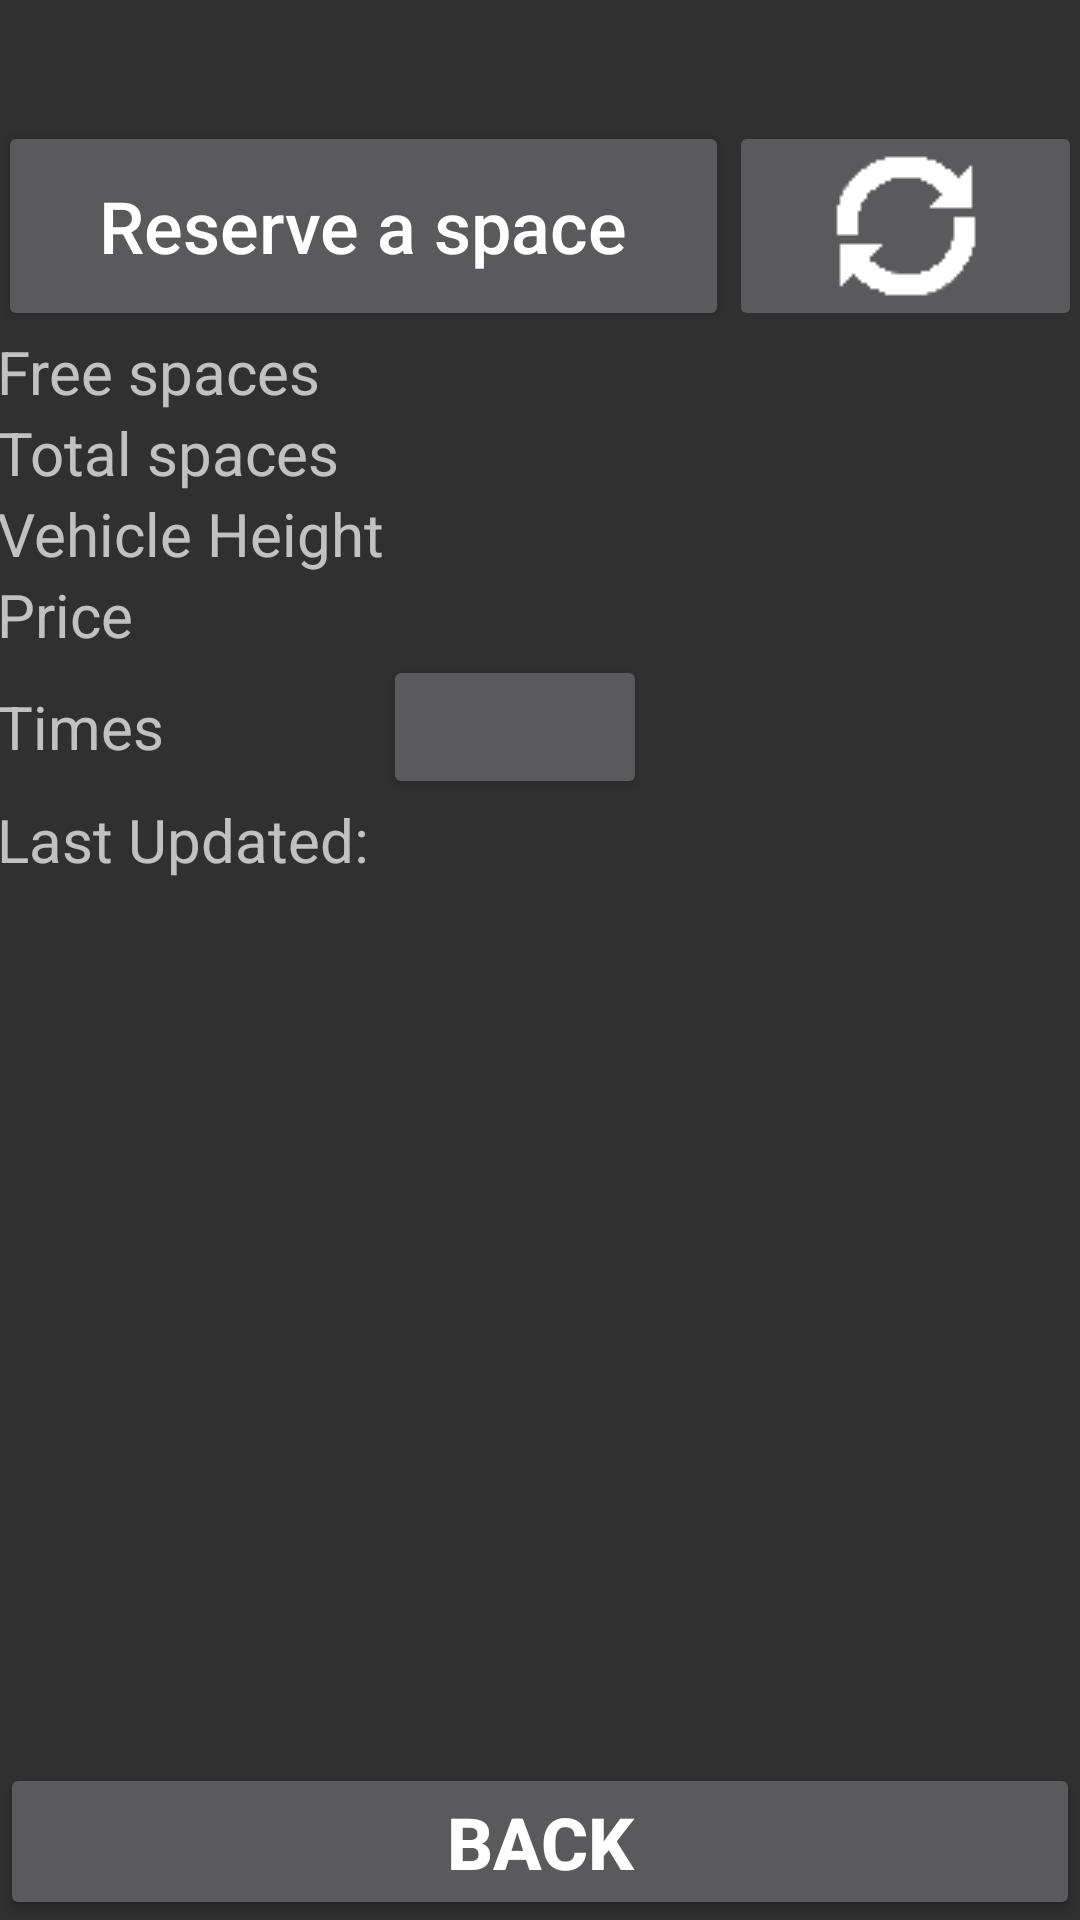

Named icons in this screenshot (1080x1920) and their centers, point (x, y):
Refresh activity information: point (905, 226)
